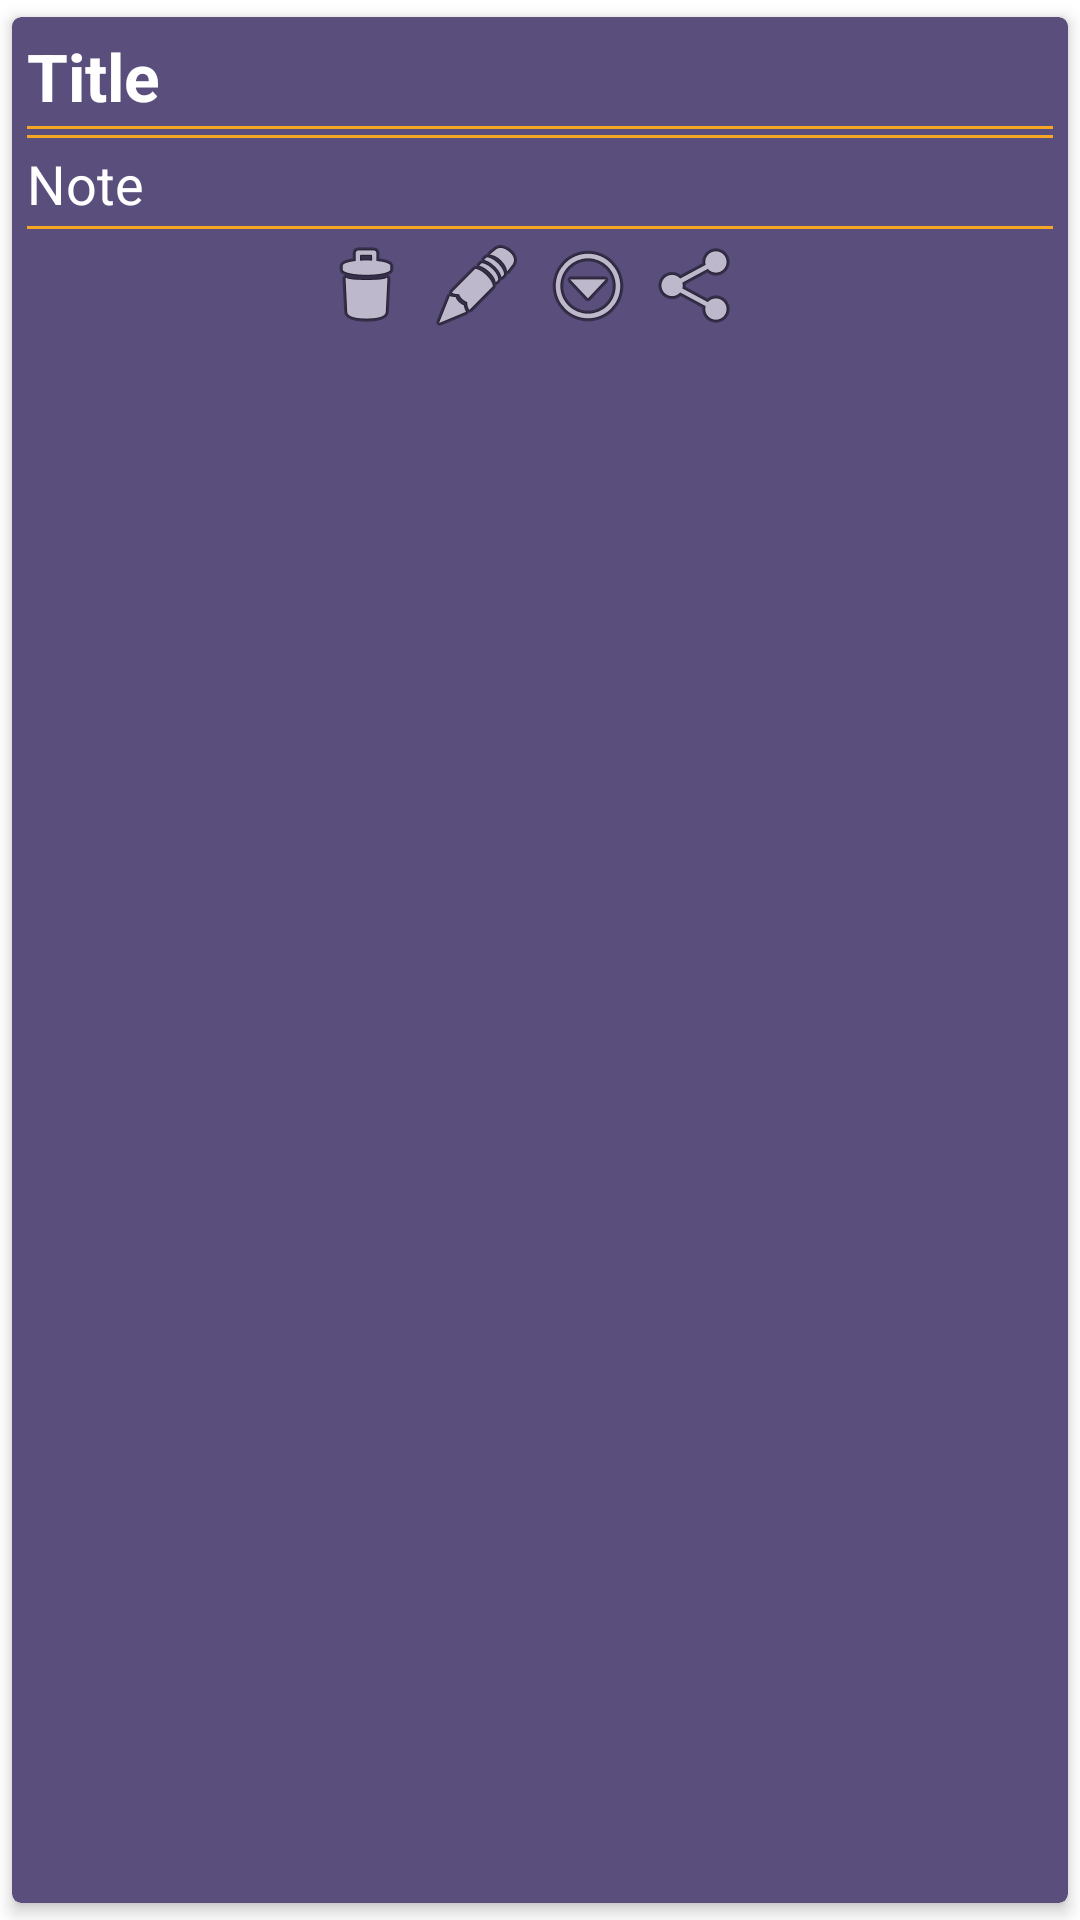

Screen size 1080px x 1920px. Icon name, then its box in pixels as (x1, y1, x2, y2):
delete: (340, 247, 393, 322)
edit: (436, 245, 517, 326)
more: (553, 251, 623, 321)
share: (658, 248, 730, 323)
